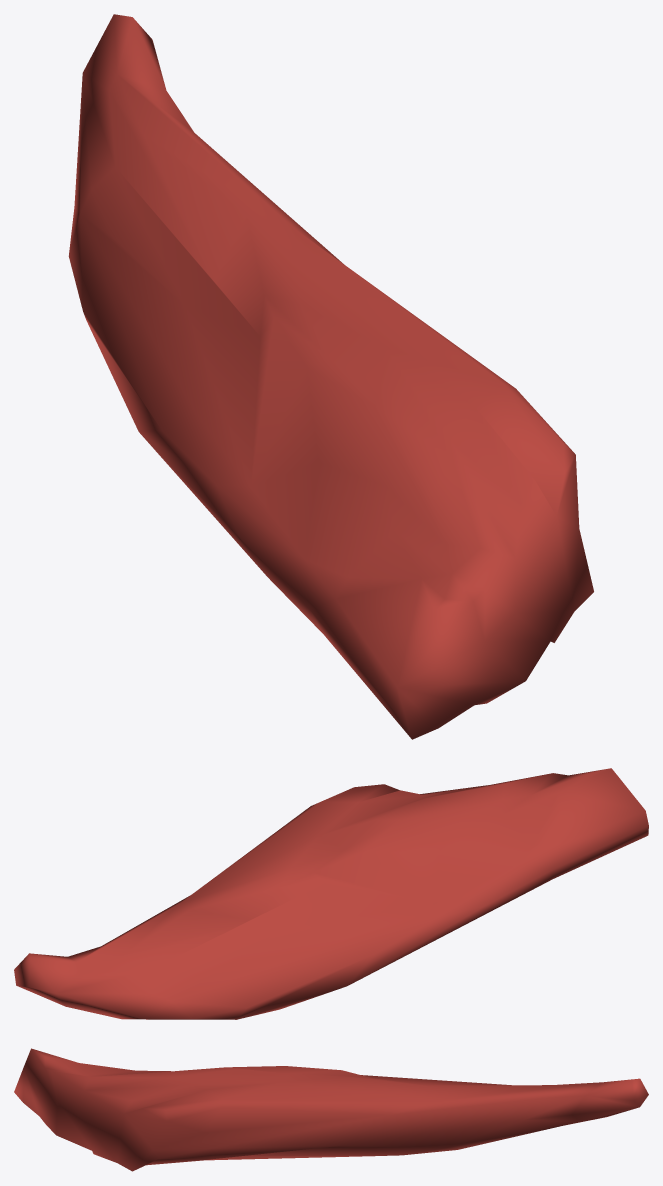
Rendered from musculos-anterior-belly-of-digastric-muscle-l.glb.
3 views of the same model, one above another, from view 1: azimuth 30°, elevation 25°; view 2: azimuth 150°, elevation 25°; view 3: azimuth 270°, elevation 25° (orthographic). The views are drawn at different scales.
Visible parts, largest first — view 1: Anterior belly of digastric muscle.l; view 2: Anterior belly of digastric muscle.l; view 3: Anterior belly of digastric muscle.l.
Part boxes in pixels (<box>): Anterior belly of digastric muscle.l: <box>68,14,593,739</box>; Anterior belly of digastric muscle.l: <box>14,768,648,1019</box>; Anterior belly of digastric muscle.l: <box>14,1048,648,1171</box>.
Bounding box in the file's own units: 0.012 × 0.00633 × 0.0358.
